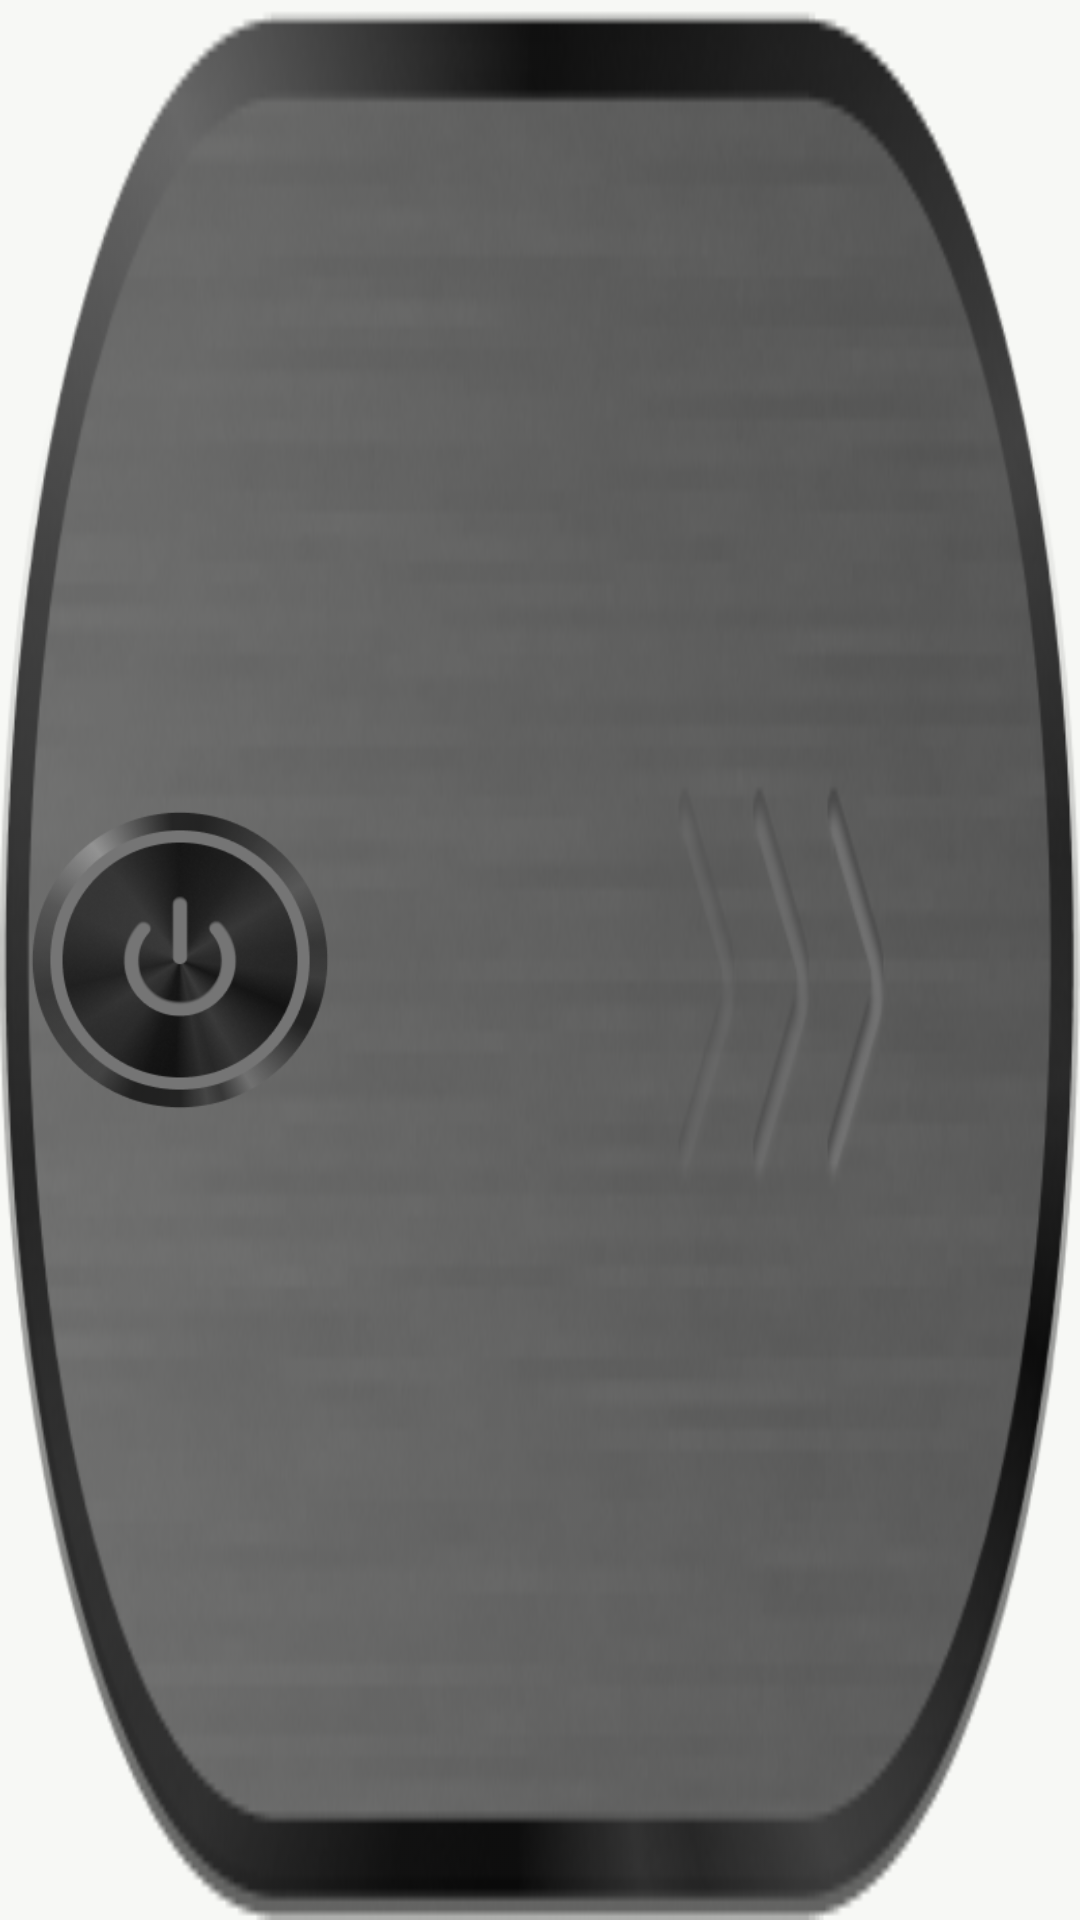

Icons on this 1080px x 1920px Android screen, each with its box as (x1, y1, x2, y2):
thumb off: (33, 813, 327, 1107)
